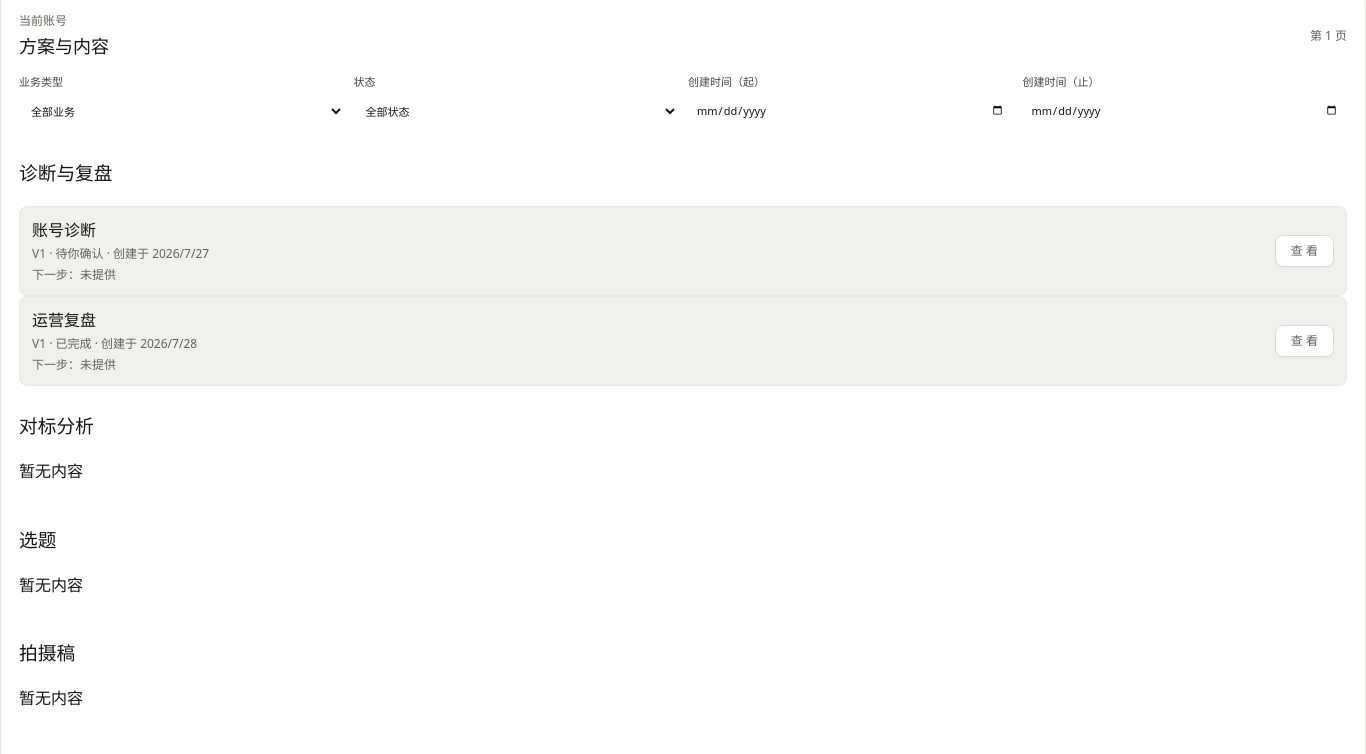
it: ArtifactCenter › sends date filters before pagination so a matching later-page artifact appears on page one
The image size is (1366, 754).
Expected: the text "账号诊断" is shown, [32,218,96,240]
Select "选题" in the dropdown labelled "业务类型" at (181, 111), box [19,96,344,126]
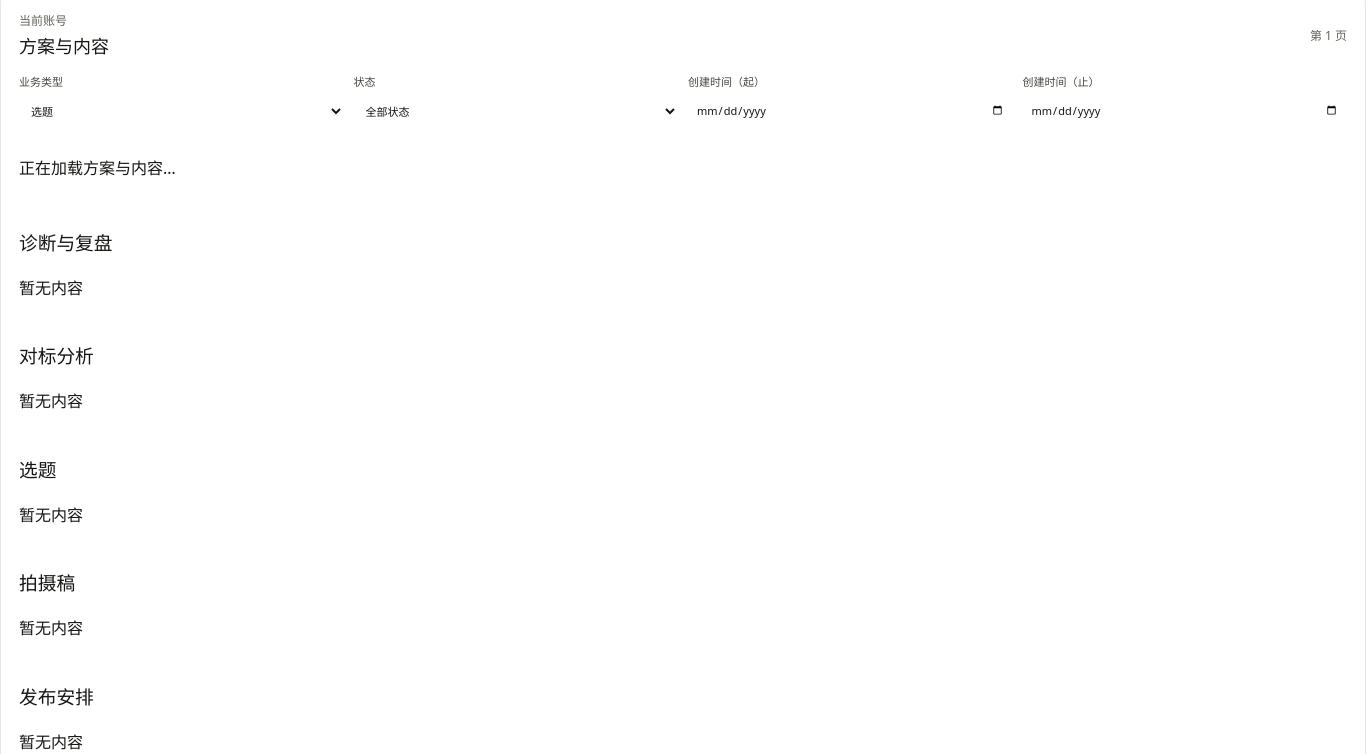
Expected: the text "账号诊断" is gone
Select "全部业务" in the dropdown labelled "业务类型" at (181, 111), box [19,96,344,126]
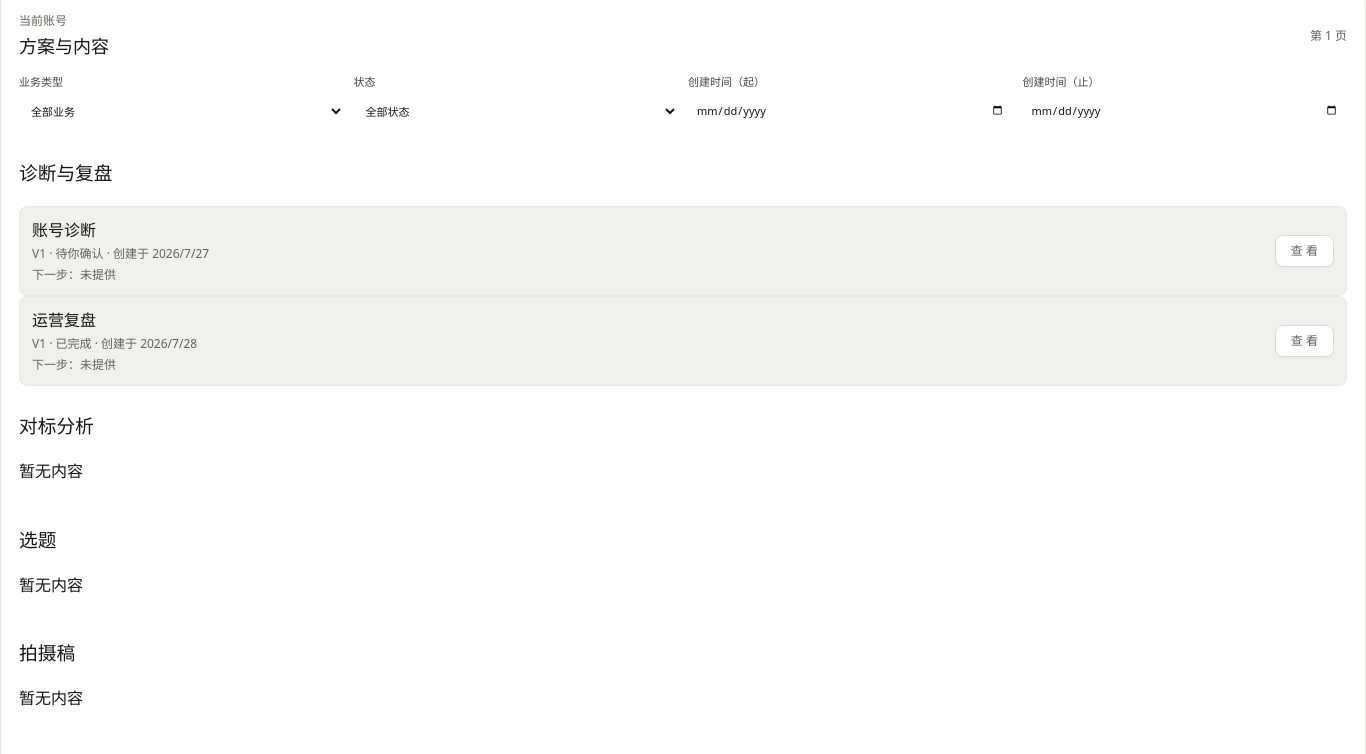
Select "已完成" in the dropdown labelled "状态" at (516, 111), box [354,96,678,126]
(page scrolled)
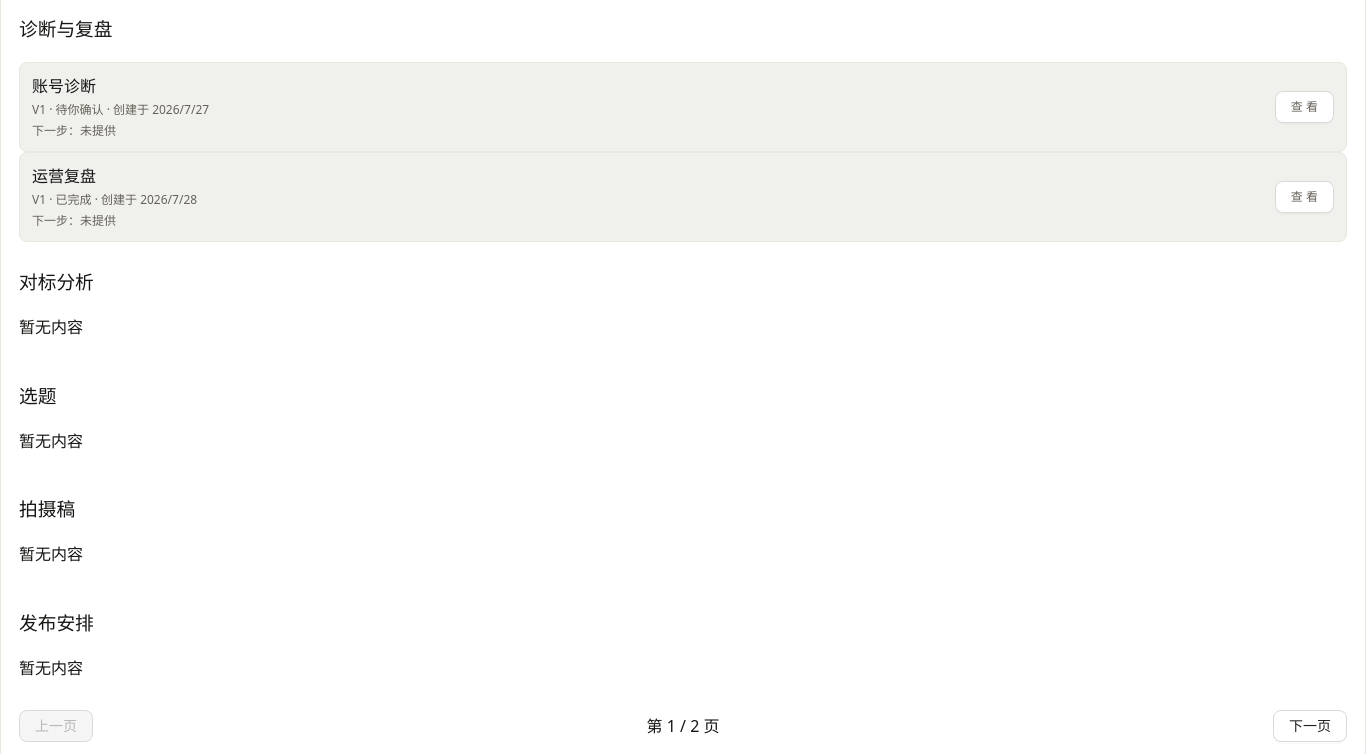
Click the button "下一页" at (1310, 726), box [1273,710,1347,742]
(page scrolled)
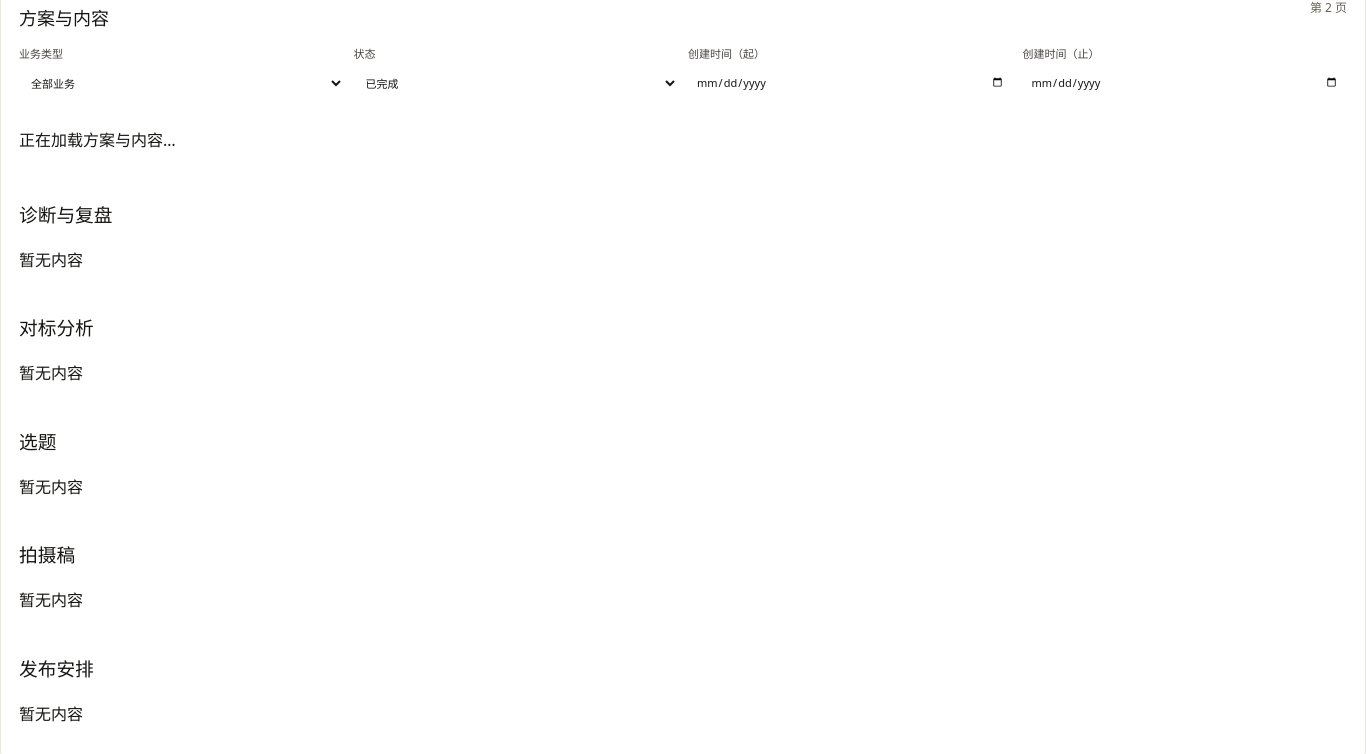
Type "2026-07-28" into the date field labelled "创建时间（起）" at (850, 83), box [688,68,1012,98]
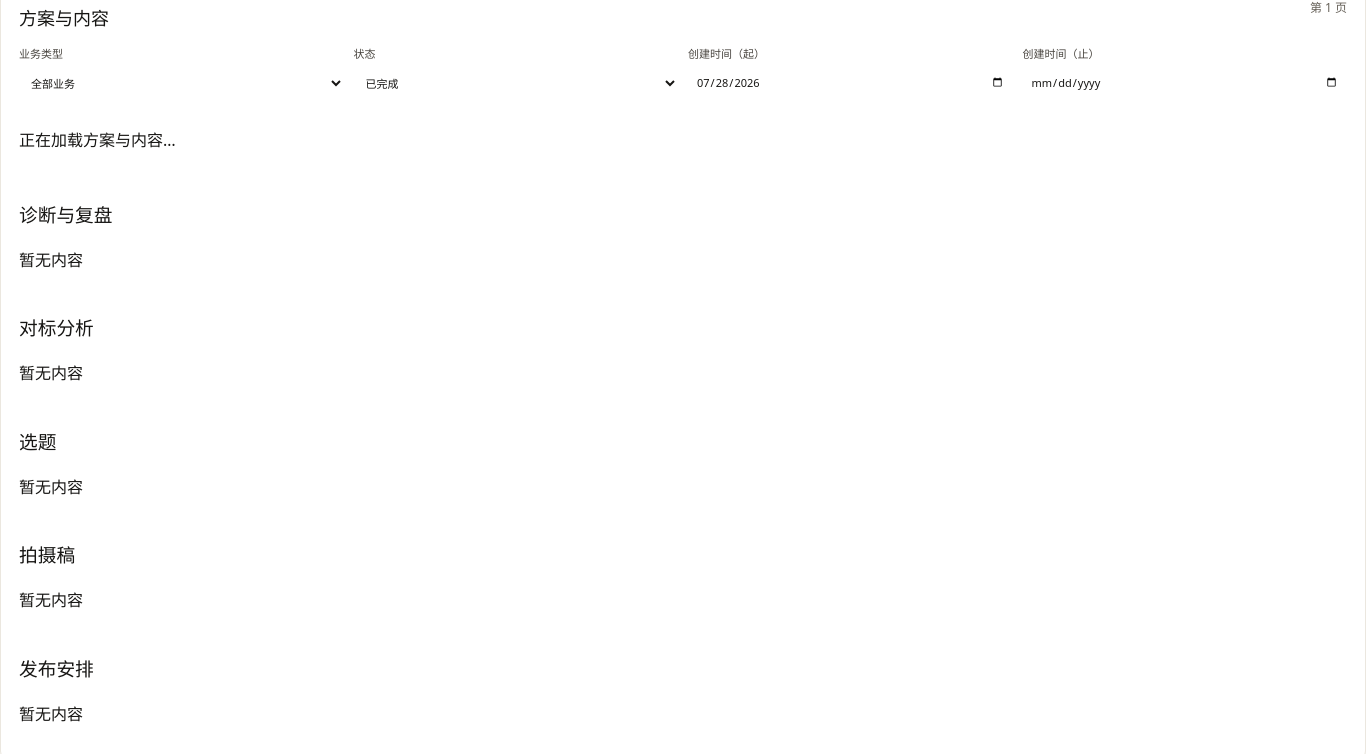
Type "2026-07-28" into the date field labelled "创建时间（止）" at (1185, 83), box [1022,68,1347,98]
(page scrolled)
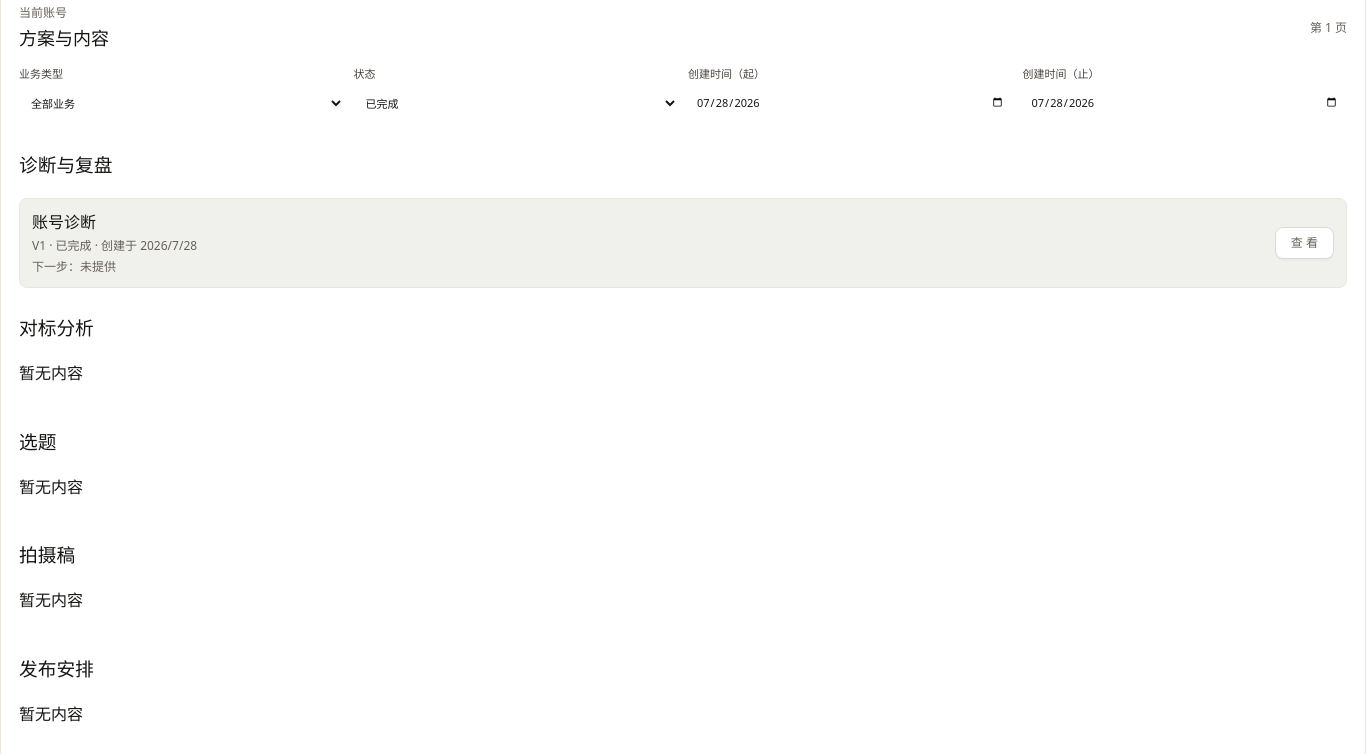
Expected: the button "下一页" is not shown
Expected: the text "账号诊断" is shown, [32,210,96,232]
